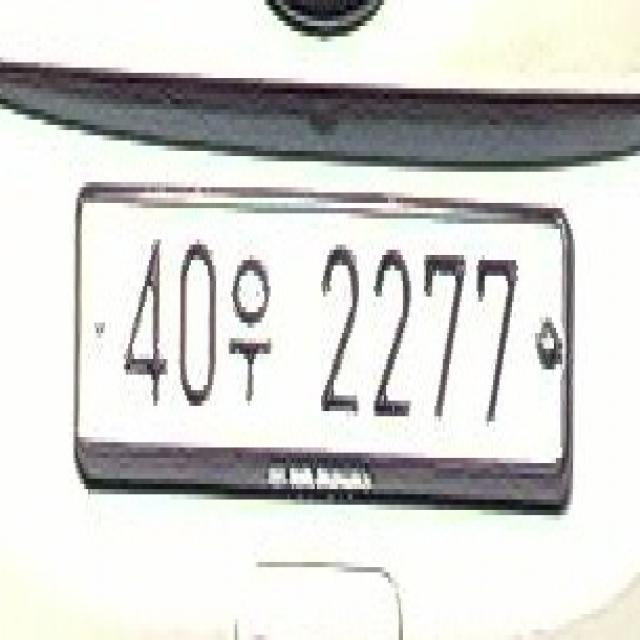0: (174, 250, 218, 411)
2: (368, 244, 413, 426), (317, 239, 357, 416)
4: (119, 234, 168, 411)
7: (468, 244, 520, 422), (418, 239, 463, 416)
license_plate: (71, 182, 571, 479)
u: (227, 255, 275, 406)
